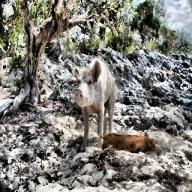boar: (72, 57, 116, 151), (99, 131, 157, 154)
